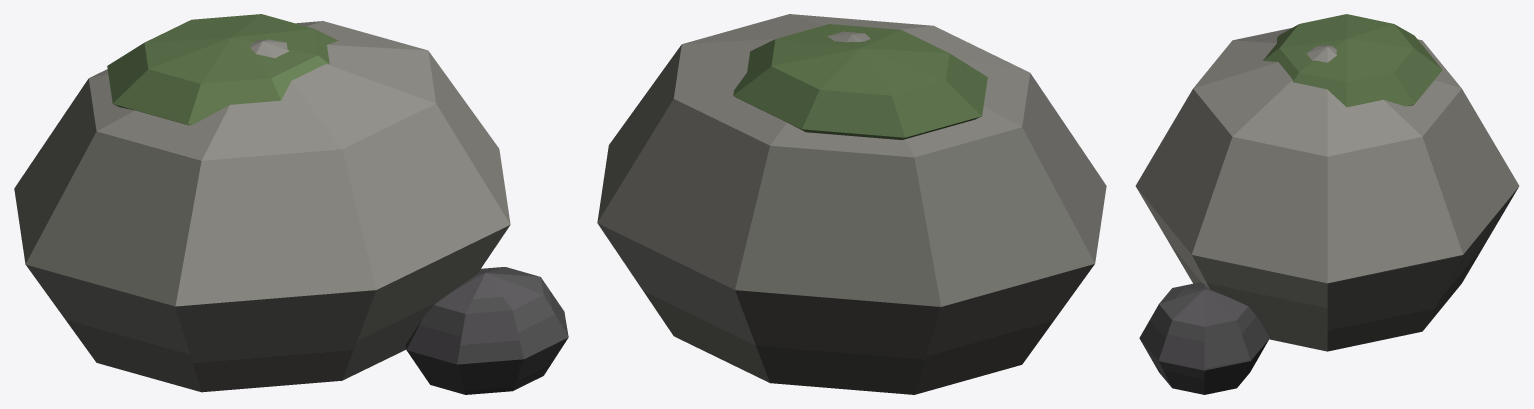
The model's file is boulder.glb.
3 views of the same model, side by side, from view 1: azimuth 30°, elevation 25°; view 2: azimuth 150°, elevation 25°; view 3: azimuth 270°, elevation 25° (orthographic). The views are drawn at different scales.
Size of the model in its own units: 1.2 by 0.8 by 1.
1 material, 1 textured.
